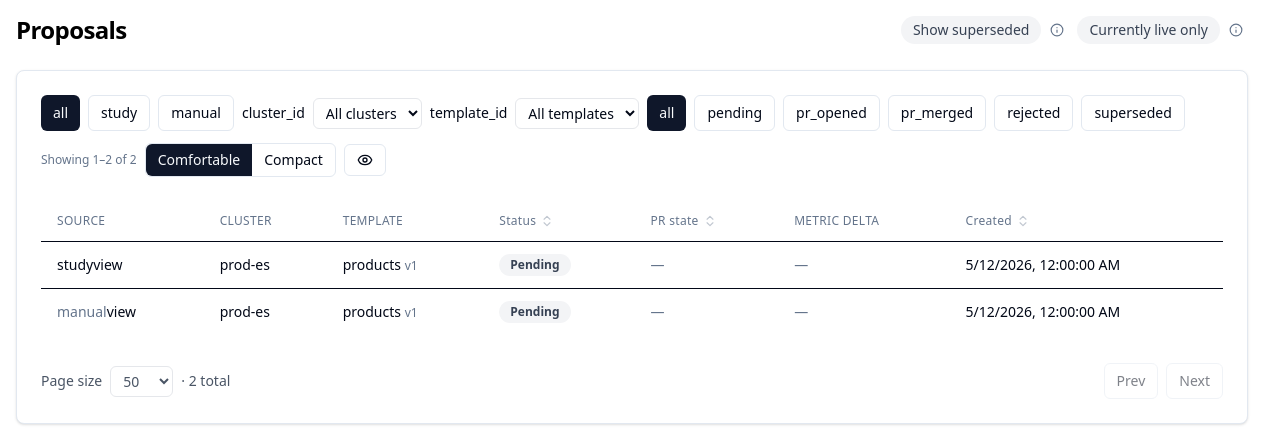
Test: ProposalsPage (DataTable migration — Story 3.2) › server-side source filter refetches with ?source=manual
The image size is (1265, 442).
Expected: the row with test id "proposal-row-pStudy" is shown, [41,242,1223,288]
Expected: the row with test id "proposal-row-pManual" is shown, [41,288,1223,335]
What coordinates should you click on to do the following:
click the button with test id "filter-chip-source-manual"
I would click on:
 (196, 113)
Its box is [158,95,234,131].
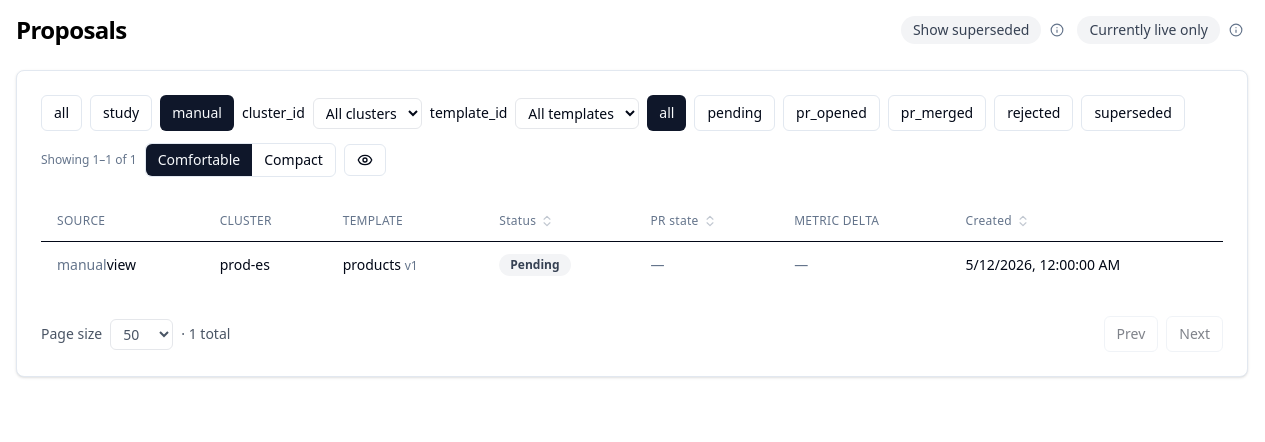
Expected: the row with test id "proposal-row-pManual" is shown, [41,242,1223,288]
Now the row with test id "proposal-row-pStudy" is gone
